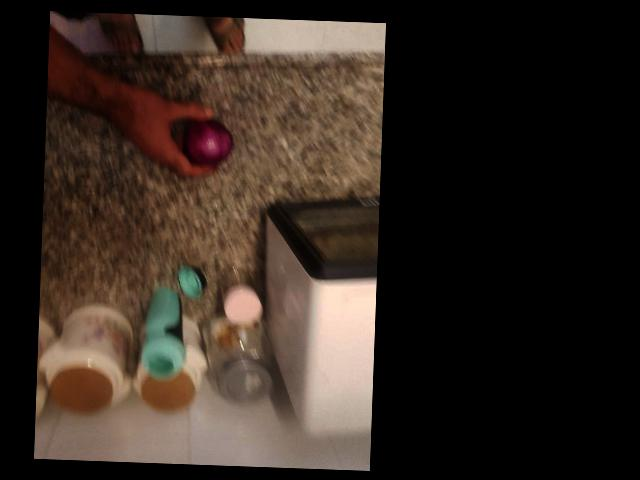onion: (334, 257, 407, 326)
